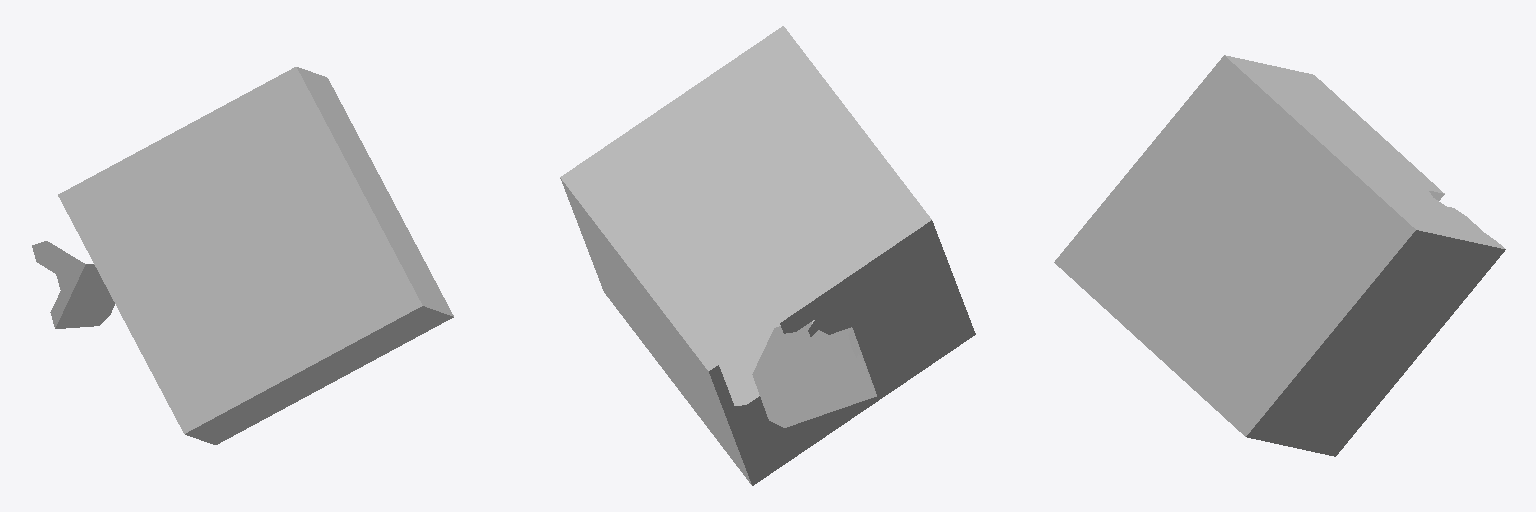
File: explode_000001.obj
The picture shows the model from 3 angles: view 1: azimuth 30°, elevation 25°; view 2: azimuth 150°, elevation 25°; view 3: azimuth 270°, elevation 25°; orthographic projection.
Parts seen in each view (by area): view 1: Cube_Cube.001; view 2: Cube_Cube.001; view 3: Cube_Cube.001.
Part boxes in pixels (x1,y1,x2,y2): Cube_Cube.001: (32, 67, 453, 444); Cube_Cube.001: (560, 26, 975, 485); Cube_Cube.001: (1054, 55, 1505, 456).
Size of the model in its own units: 3.08 by 3.36 by 3.33.